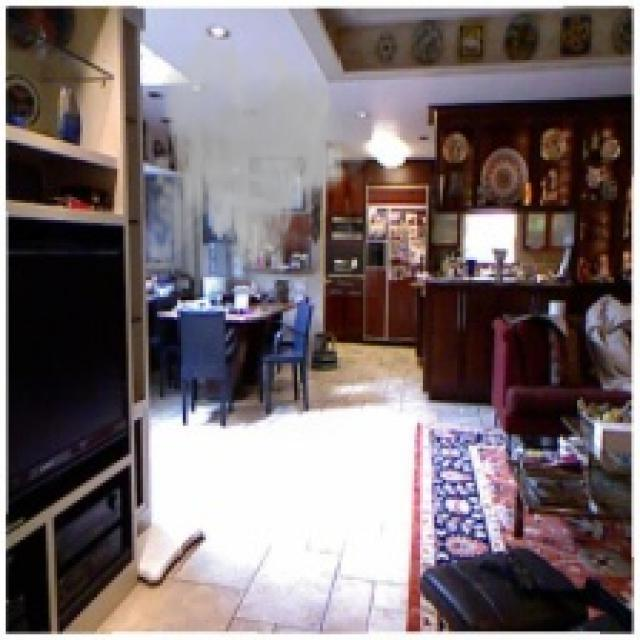Smoke: (137, 29, 377, 298)
